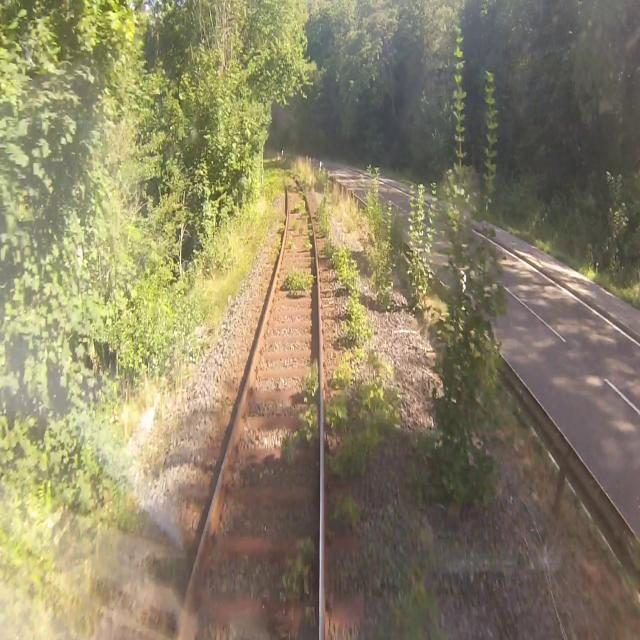Plant: (401, 318, 503, 516), (316, 184, 371, 347), (323, 353, 397, 473), (29, 558, 98, 639), (279, 357, 320, 475), (94, 484, 174, 542), (80, 527, 126, 609), (394, 561, 441, 639), (276, 532, 317, 607), (364, 222, 397, 308), (331, 185, 361, 234), (332, 491, 363, 537), (280, 271, 314, 299), (406, 278, 427, 313), (293, 162, 318, 186), (273, 213, 285, 254), (265, 173, 282, 200), (295, 195, 307, 218), (265, 207, 275, 232), (300, 236, 312, 253), (307, 219, 313, 239), (287, 238, 297, 250), (290, 220, 298, 232), (300, 227, 302, 235)
